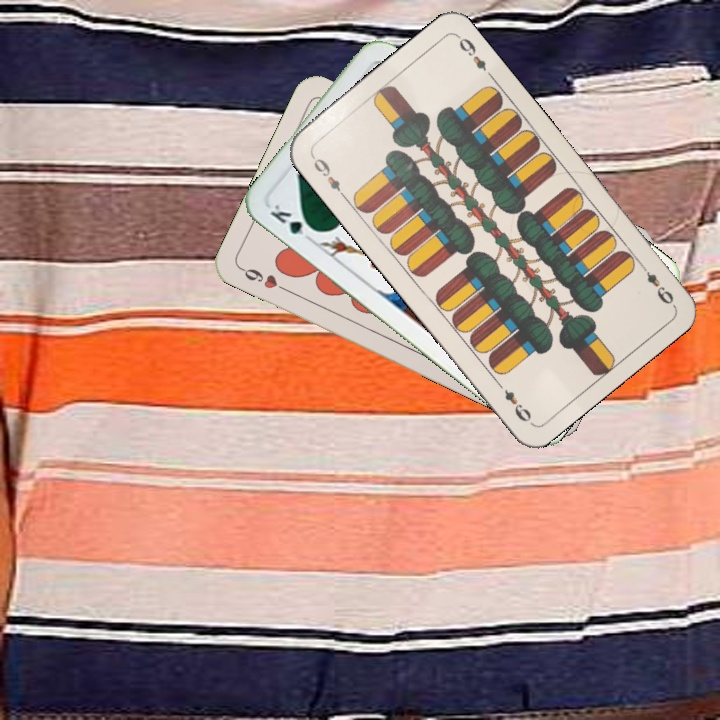E9: (307, 151, 349, 201), (635, 258, 677, 307)
GK: (265, 200, 320, 238)
H9: (237, 263, 292, 295)
